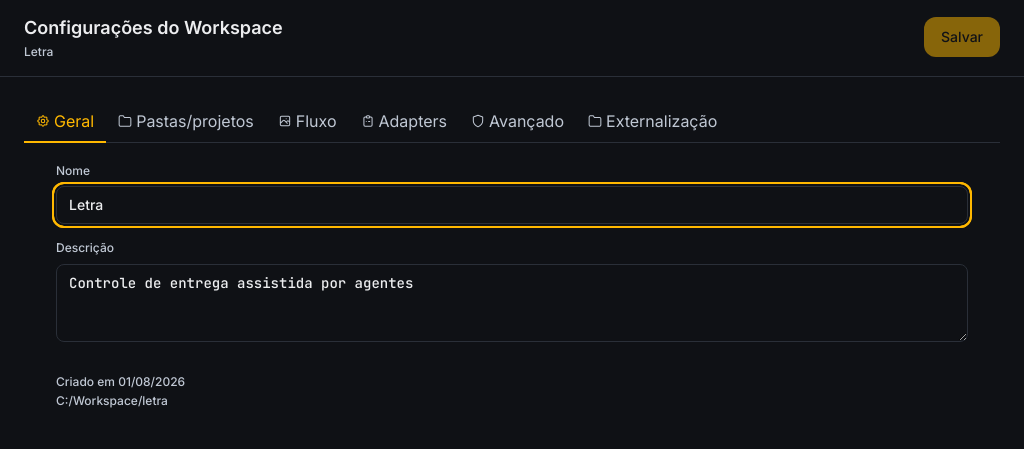
WorkspaceSettings › blocks saving workspace identity when the name is shorter than two characters
This screenshot has width=1024, height=449.
Step 1. Replace the text in the field with placeholder "Nome do workspace" with "L" → (512, 205), box [56,186,968,224]
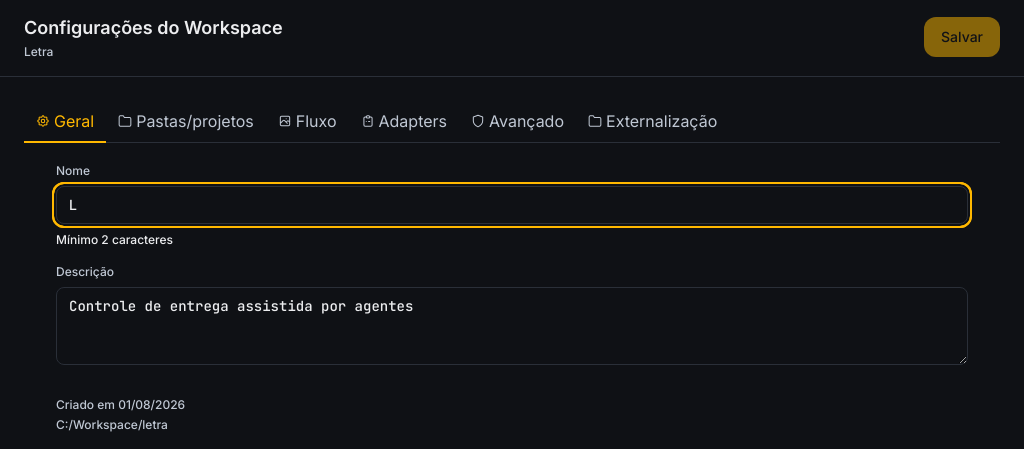
Expected: the button "Salvar" is disabled, [924,17,1000,57]
Result: the text "Mínimo 2 caracteres" is shown at [56,232,173,248]
